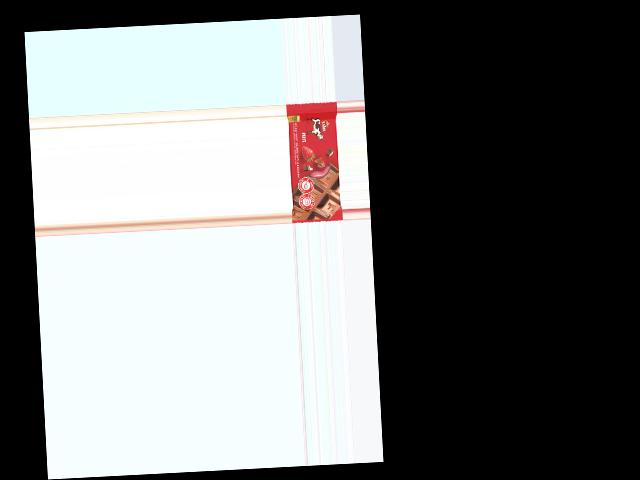chocolate: (285, 100, 342, 223)
